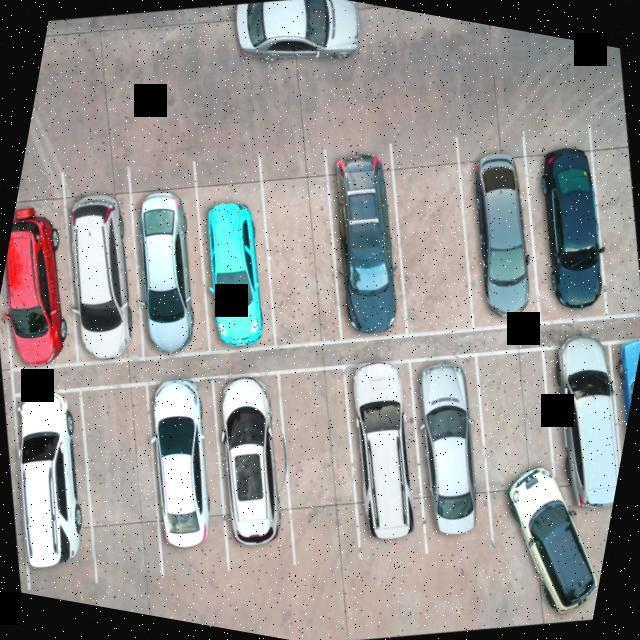car: (494, 131, 640, 339), (95, 166, 238, 366), (428, 130, 568, 328), (381, 345, 518, 540), (35, 172, 172, 364), (451, 338, 585, 530), (302, 142, 434, 336), (126, 368, 256, 564), (174, 163, 306, 354), (317, 352, 449, 540), (0, 377, 124, 574), (515, 324, 640, 516), (192, 367, 318, 551), (0, 184, 107, 379), (581, 328, 640, 496)
free: (362, 136, 498, 345), (232, 147, 371, 347), (52, 378, 188, 578), (247, 354, 379, 542), (564, 132, 640, 326)
